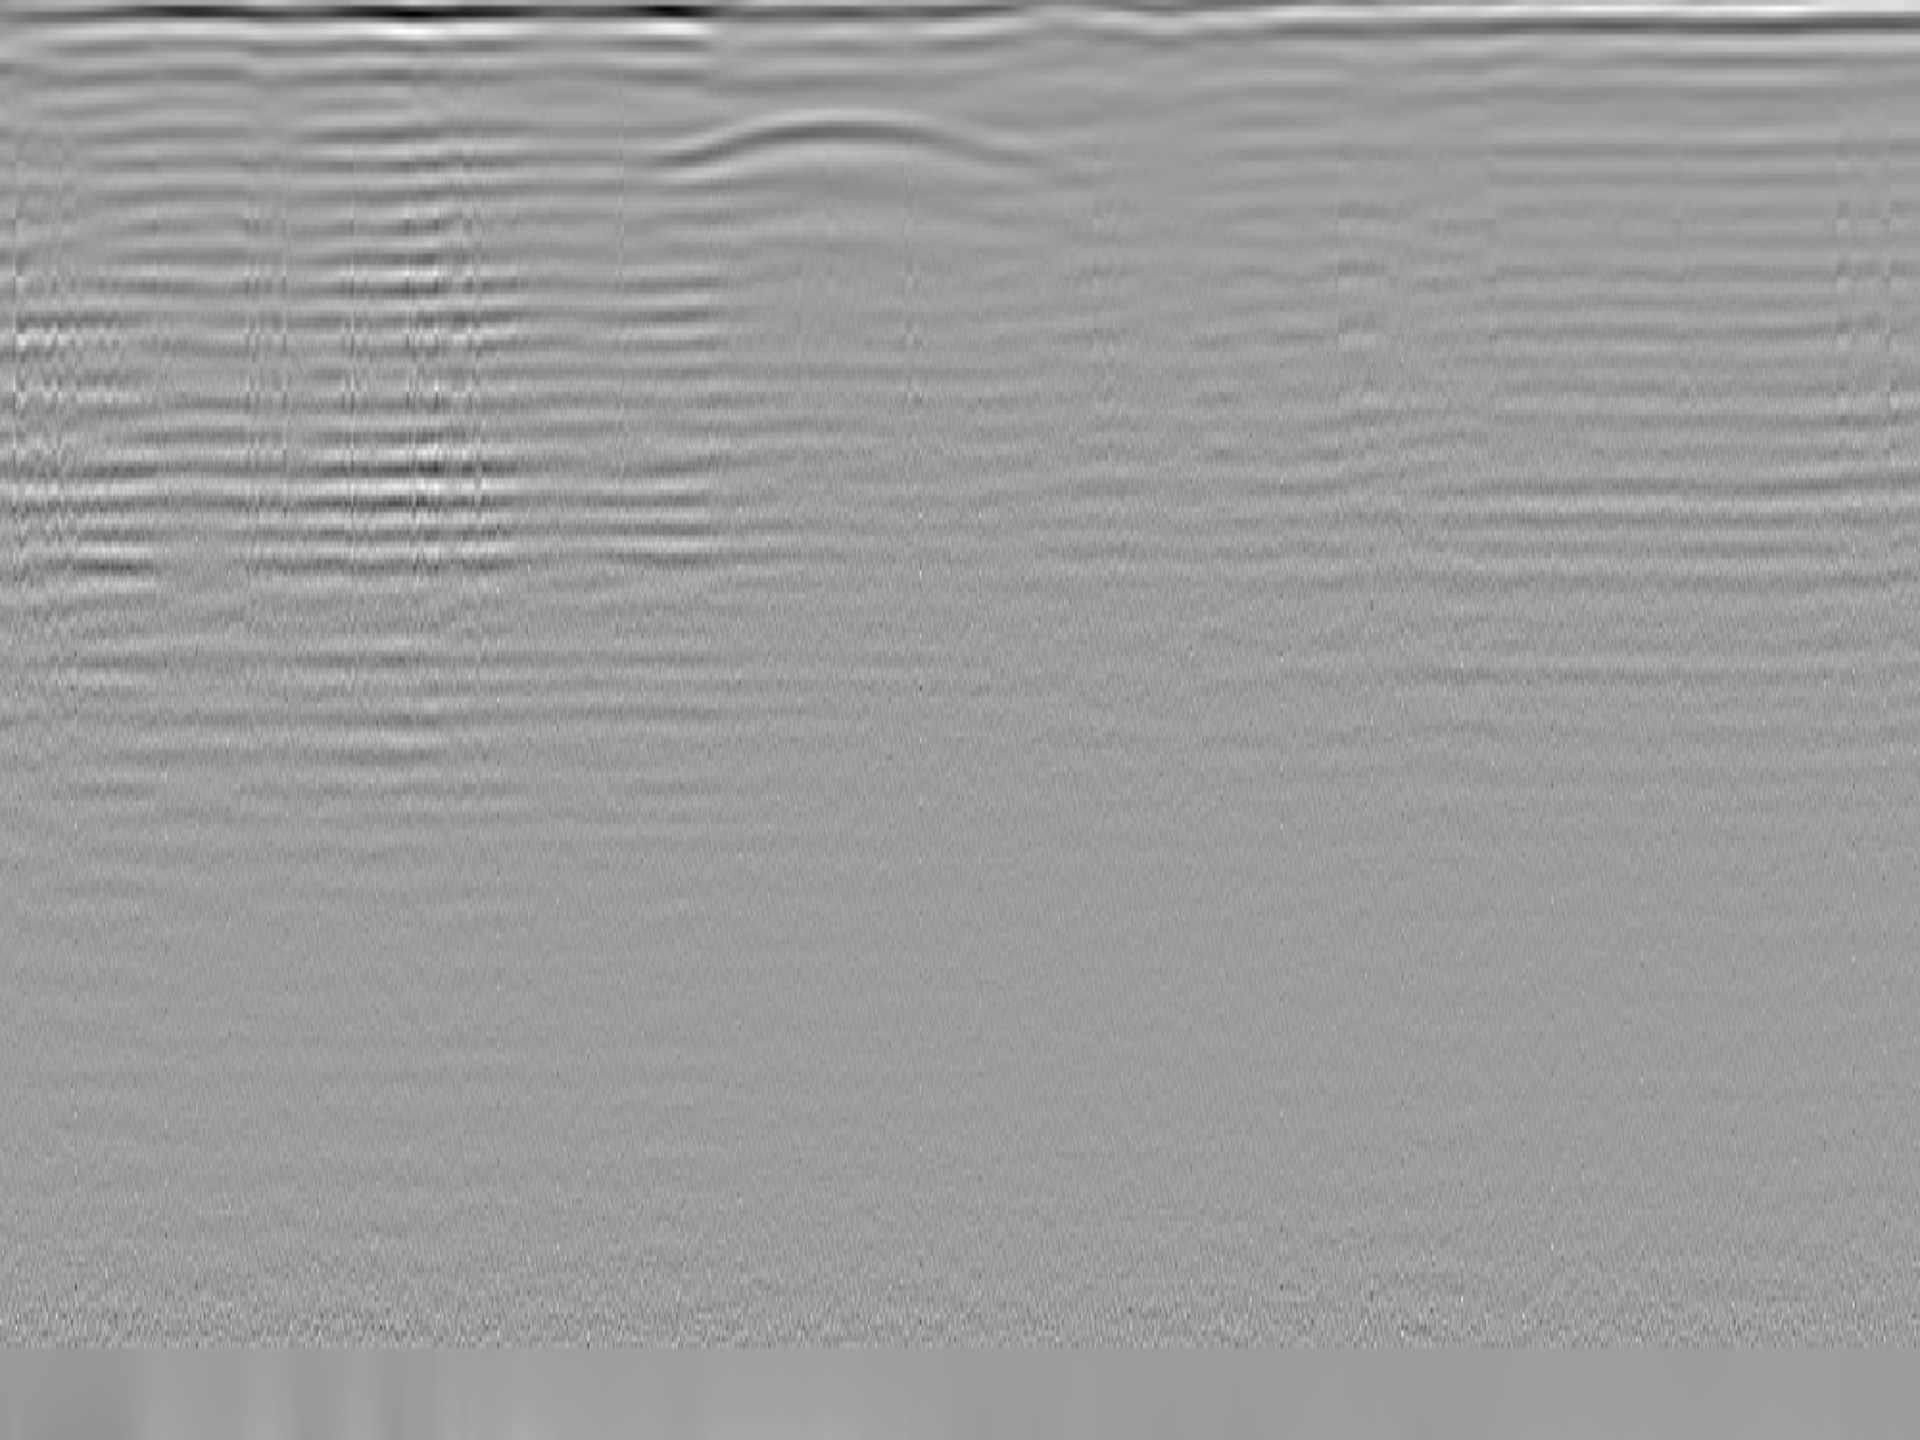Tunnel: (643, 106, 1078, 182)
